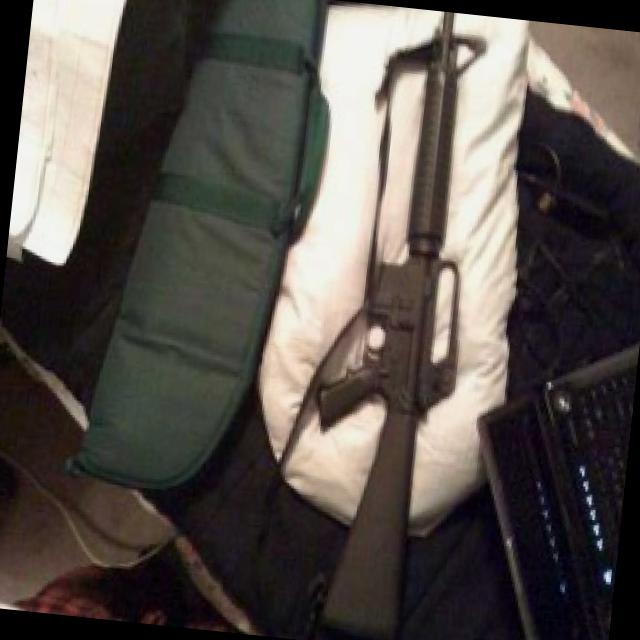long weapon: (286, 11, 517, 639)
